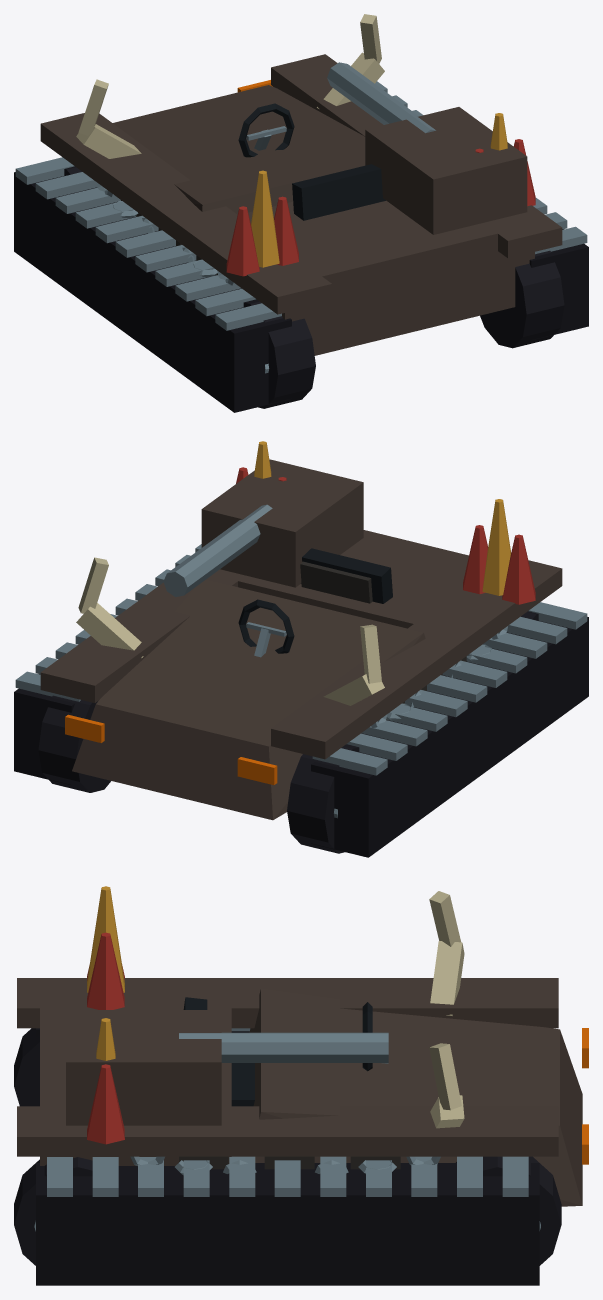
File: kart.glb
The picture shows the model from 3 angles, top to bottom: view 1: azimuth 30°, elevation 25°; view 2: azimuth 150°, elevation 25°; view 3: azimuth 270°, elevation 25°; orthographic projection. The views are drawn at different scales.
Parts seen in each view (by area): view 1: identity-tank-tank-armored-hull, identity-tank-tank-full-length-tracks, identity-tank-motif-fire, identity-tank-driver-cockpit, wheel-rear-right, wheel-rear-left, identity-tank-motif-horns, identity-tank-motif-chains; view 2: identity-tank-tank-armored-hull, identity-tank-tank-full-length-tracks, identity-tank-driver-cockpit, identity-tank-motif-fire, identity-tank-motif-horns, wheel-front-left, wheel-front-right; view 3: identity-tank-tank-armored-hull, identity-tank-tank-full-length-tracks, identity-tank-motif-fire, identity-tank-motif-horns, wheel-front-right, wheel-rear-right, wheel-rear-left, identity-tank-driver-cockpit, identity-tank-motif-chains.
Boxes of the visible parts, box(x1,y1,x2,y2) form: identity-tank-tank-armored-hull: box(40, 54, 562, 355); identity-tank-tank-full-length-tracks: box(14, 81, 588, 412); identity-tank-motif-fire: box(226, 113, 535, 276); identity-tank-driver-cockpit: box(238, 103, 385, 220); wheel-rear-right: box(480, 250, 564, 348); wheel-rear-left: box(243, 299, 315, 408); identity-tank-motif-horns: box(76, 14, 384, 158); identity-tank-motif-chains: box(96, 182, 233, 285); identity-tank-tank-armored-hull: box(40, 459, 562, 820); identity-tank-tank-full-length-tracks: box(14, 544, 588, 857); identity-tank-driver-cockpit: box(238, 548, 392, 657); identity-tank-motif-fire: box(236, 441, 535, 604); identity-tank-motif-horns: box(76, 557, 384, 705); wheel-front-left: box(287, 744, 359, 853); wheel-front-right: box(38, 695, 110, 792); identity-tank-tank-armored-hull: box(17, 978, 588, 1206); identity-tank-tank-full-length-tracks: box(36, 1028, 539, 1285); identity-tank-motif-fire: box(87, 886, 124, 1144); identity-tank-motif-horns: box(429, 891, 464, 1128); wheel-front-right: box(456, 1156, 561, 1265); wheel-rear-right: box(14, 1157, 92, 1265); wheel-rear-left: box(14, 1028, 39, 1106); identity-tank-driver-cockpit: box(183, 997, 388, 1106); identity-tank-motif-chains: box(130, 1156, 440, 1175).
Bounding box in the file's own units: 2.38 × 1.37 × 2.88.
